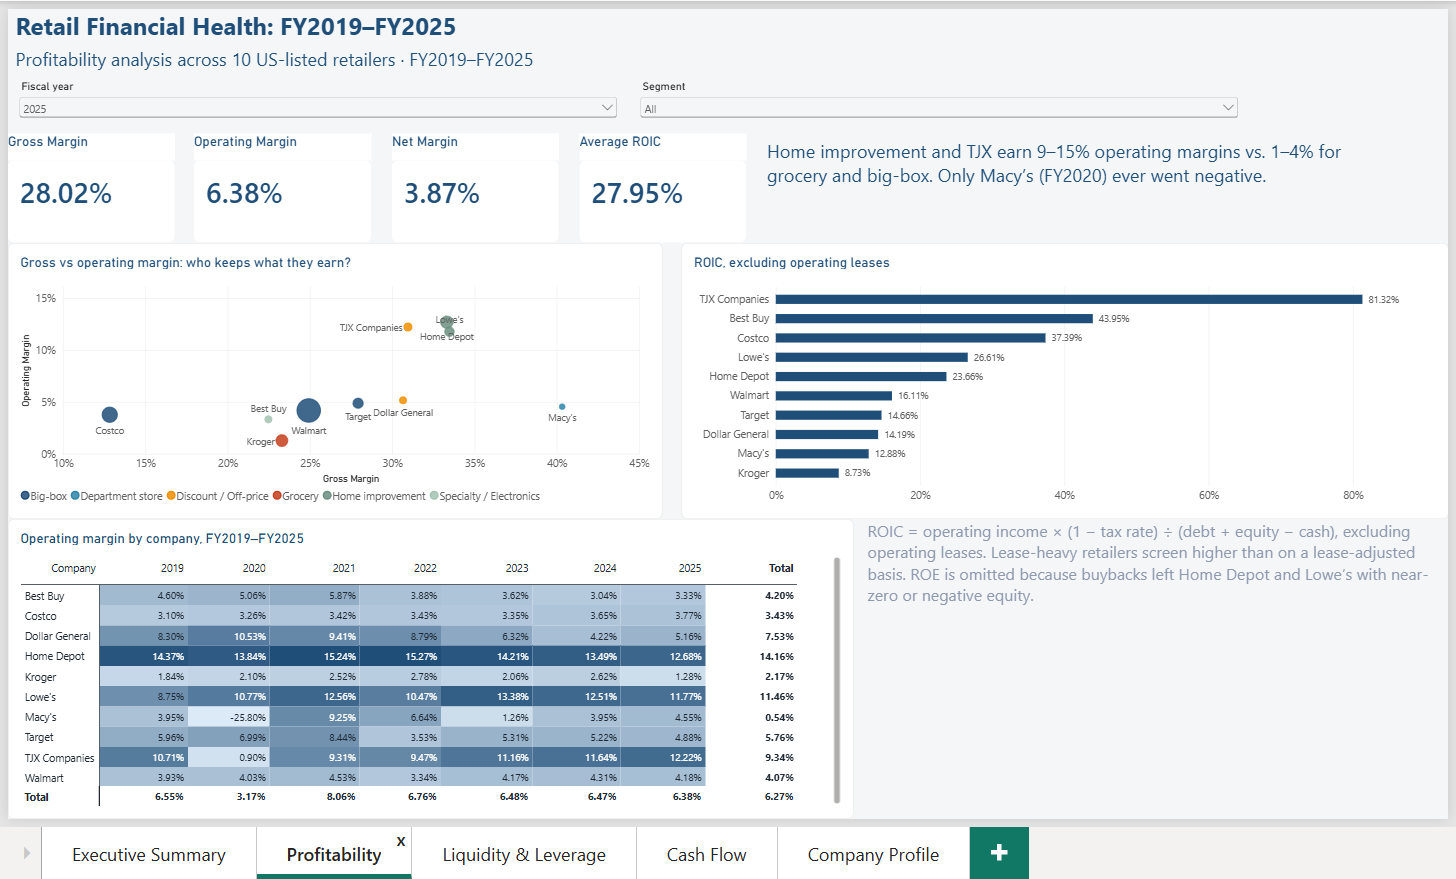

The page's visual inventory and layout, read from the dashboard file:
{"tool":"powerbi","page":{"name":"Profitability","canvas":[1920,1080],"ordinal":1},"visuals":[{"type":"textbox","box":[9.1,0,665.9,50],"z":0},{"type":"textbox","box":[9.1,50,709.1,43.2],"z":1000},{"type":"slicer","fields":{"Values":["analytics v_ratios.fiscal_year"]},"box":[9.1,93.2,806.8,72.7],"z":2000},{"type":"slicer","fields":{"Values":["analytics companies.segment"]},"box":[838.6,93.2,806.8,72.7],"z":3000},{"type":"cardVisual","title":"Gross Margin","fields":{"Data":["analytics v_ratios.Gross Margin"]},"box":[0,165.9,222.7,145.5],"z":4000},{"type":"cardVisual","title":"Operating Margin","fields":{"Data":["analytics v_ratios.Operating Margin"]},"box":[247.7,165.9,236.4,145.5],"z":5000},{"type":"cardVisual","title":"Net Margin","fields":{"Data":["analytics v_ratios.Net Margin"]},"box":[511.4,165.9,222.7,145.5],"z":6000},{"type":"cardVisual","title":"Average ROIC","fields":{"Data":["analytics v_ratios.AVERAGE ROIC"]},"box":[761.4,165.9,222.7,145.5],"z":7000},{"type":"scatterChart","title":"Gross vs operating margin: who keeps what they earn?","fields":{"Category":["analytics companies.company_name"],"Series":["analytics companies.segment"],"Size":["analytics v_ratios.Revenue ($M)"],"X":["analytics v_ratios.Gross Margin"],"Y":["analytics v_ratios.Operating Margin"]},"box":[0,311.4,872.7,368.2],"z":8000},{"type":"clusteredBarChart","title":"ROIC, excluding operating leases","fields":{"Category":["analytics companies.company_name"],"Y":["analytics v_ratios.AVERAGE ROIC"]},"box":[897.7,311.4,1022.7,368.2],"z":9000},{"type":"pivotTable","title":"Operating margin by company, FY2019–FY2025","fields":{"Columns":["analytics v_ratios.fiscal_year"],"Rows":["analytics companies.company_name"],"Values":["analytics v_ratios.Operating Margin"]},"box":[0,679.5,1127.3,400],"z":10000},{"type":"textbox","box":[1145.5,679.5,775,129.5],"z":11000},{"type":"textbox","box":[1011.4,172.7,775,84.1],"z":12000}]}

Visuals, with their boxes on the page's 1920x1080 design canvas (x1, y1, x2, y2). These are canvas units, not pixel positions in the 1456x879 screenshot, which may show the page scaled, cropped or inside an application window:
textbox: detection(9, 0, 675, 50)
textbox: detection(9, 50, 718, 93)
slicer - analytics v_ratios.fiscal_year: detection(9, 93, 816, 166)
slicer - analytics companies.segment: detection(839, 93, 1645, 166)
"Gross Margin" cardVisual: detection(0, 166, 223, 311)
"Operating Margin" cardVisual: detection(248, 166, 484, 311)
"Net Margin" cardVisual: detection(511, 166, 734, 311)
"Average ROIC" cardVisual: detection(761, 166, 984, 311)
"Gross vs operating margin: who keeps what they earn?" scatterChart: detection(0, 311, 873, 680)
"ROIC, excluding operating leases" clusteredBarChart: detection(898, 311, 1920, 680)
"Operating margin by company, FY2019–FY2025" pivotTable: detection(0, 680, 1127, 1080)
textbox: detection(1146, 680, 1920, 809)
textbox: detection(1011, 173, 1786, 257)
